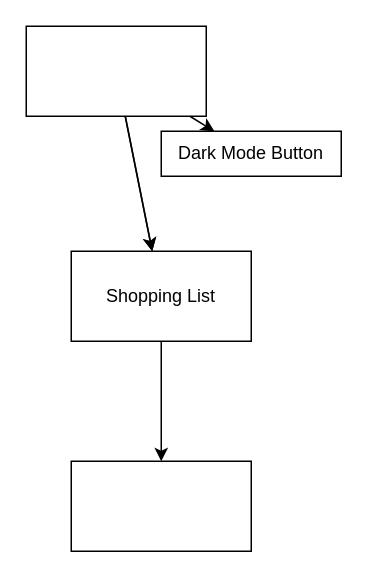
Some shapes in this 368 by 578 pixel diagram are drawn without their labels. The centre of each missing label's shape, as x and y in pixels:
"APP" goes at [115,70].
"Item" goes at [160,505].
